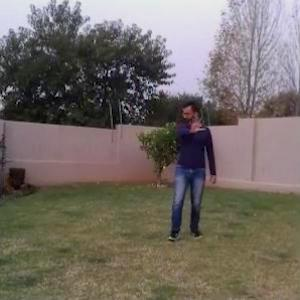follow_hand: (186, 110, 208, 133)
